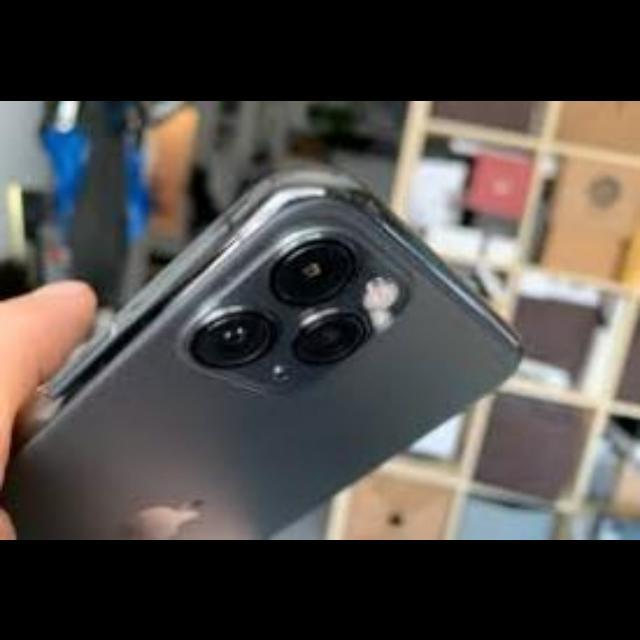Phone: (10, 164, 526, 538)
